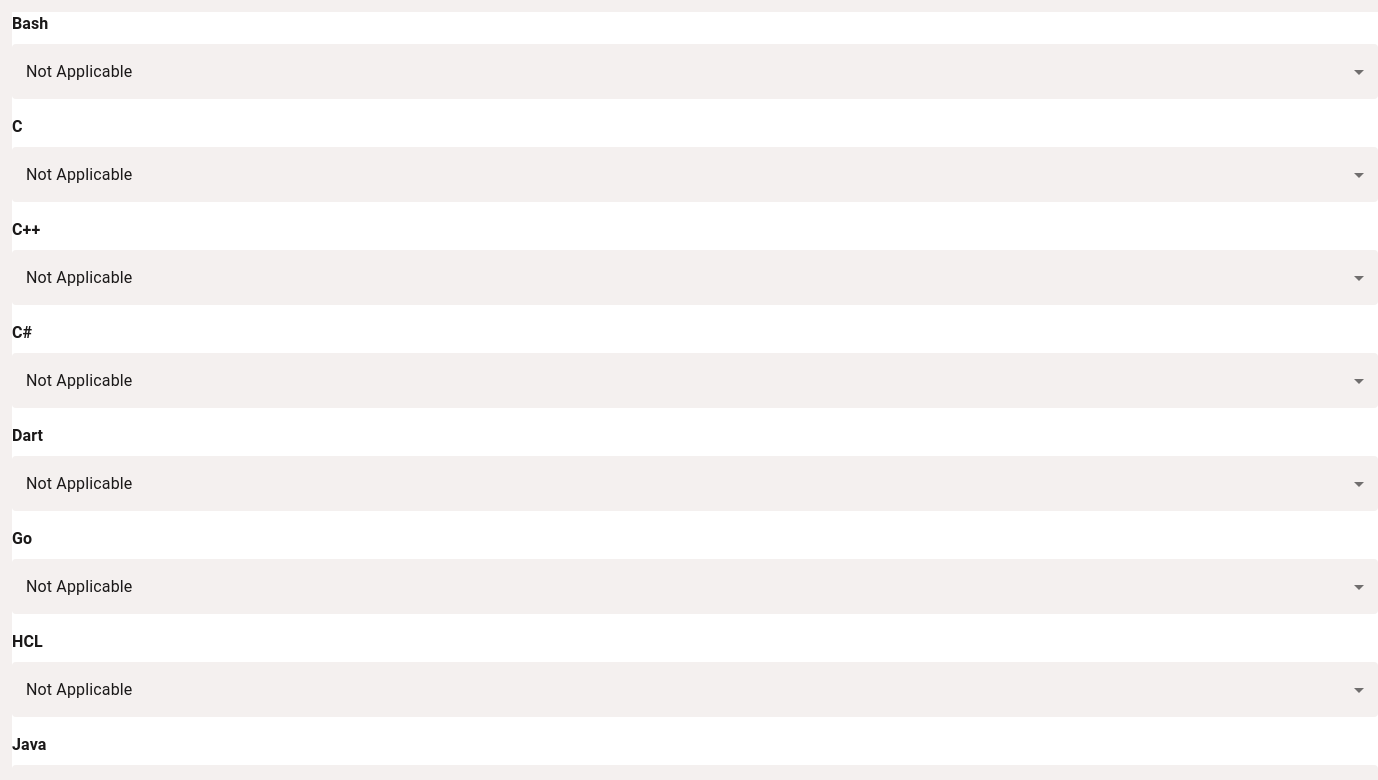
Test case: LanguagesWithProficiency › shows proficiency options when a dropdown is opened
Press the mouse on the dropdown labelled "Not Applicable" below "Bash" at point(79, 72), box [26, 62, 132, 81]
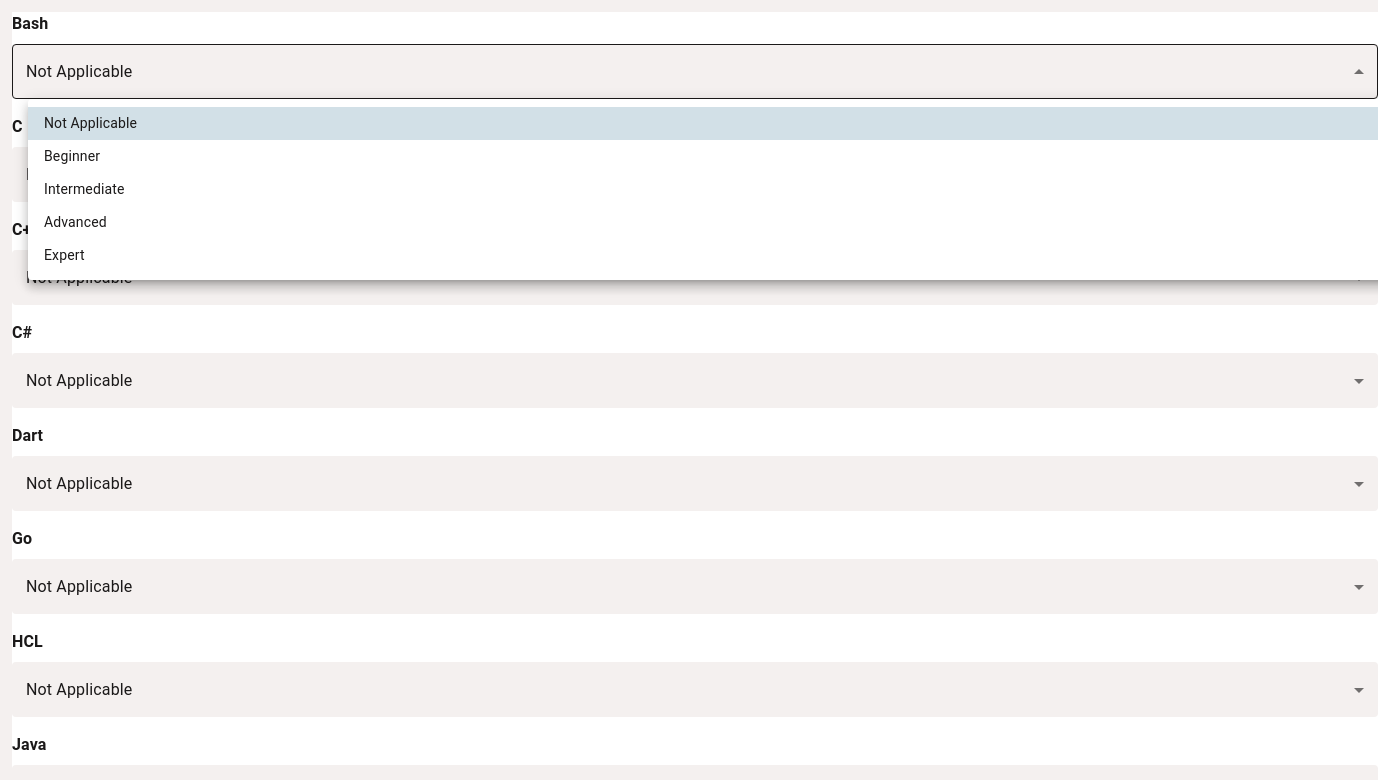
Now the option "Beginner" is shown, box [44, 148, 100, 164]
Now the option "Intermediate" is shown, box [44, 181, 124, 197]
Now the option "Advanced" is shown, box [44, 214, 107, 230]
